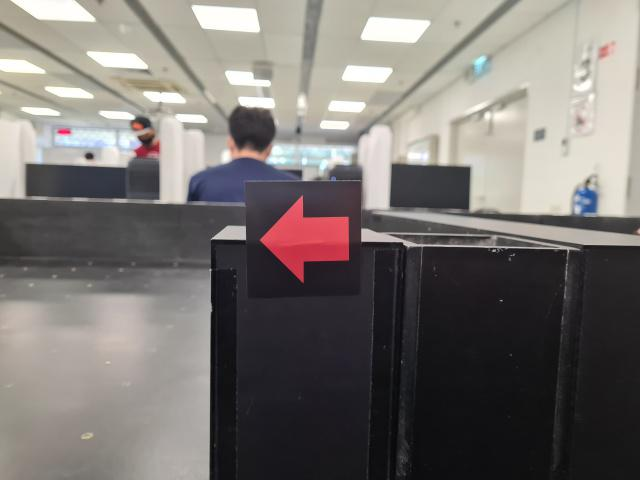left: (245, 180, 362, 300)
